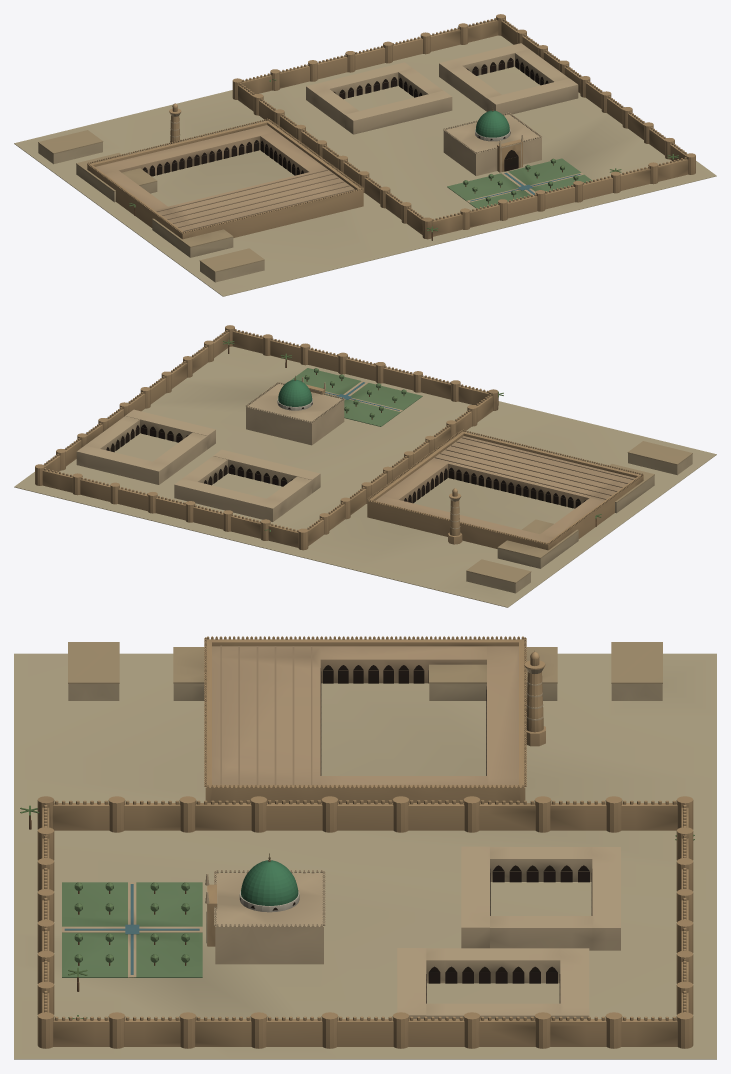
The model's file is rusafa.glb.
3 renders of one model, top to bottom at view 1: azimuth 30°, elevation 25°; view 2: azimuth 150°, elevation 25°; view 3: azimuth 270°, elevation 25°, orthographic. The views are drawn at different scales.
Parts seen in each view (by area): view 1: p0_mosque, p1_palace walls, p2_palace, p3_dome; view 2: p0_mosque, p1_palace walls, p2_palace, p3_dome; view 3: p0_mosque, p1_palace walls, p2_palace, p3_dome.
Boxes of the visible parts, x1=… form: p0_mosque: x1=14, y1=35, x2=716, y2=296; p1_palace walls: x1=95, y1=14, x2=695, y2=239; p2_palace: x1=38, y1=43, x2=592, y2=282; p3_dome: x1=129, y1=79, x2=678, y2=240; p0_mosque: x1=14, y1=346, x2=716, y2=607; p1_palace walls: x1=35, y1=325, x2=635, y2=550; p2_palace: x1=76, y1=368, x2=692, y2=593; p3_dome: x1=223, y1=339, x2=601, y2=531; p0_mosque: x1=14, y1=636, x2=716, y2=1059; p1_palace walls: x1=37, y1=645, x2=693, y2=1048; p2_palace: x1=62, y1=642, x2=662, y2=1018; p3_dome: x1=20, y1=805, x2=694, y2=1018.
Size of the model in its own units: 300 by 31.77 by 220.
